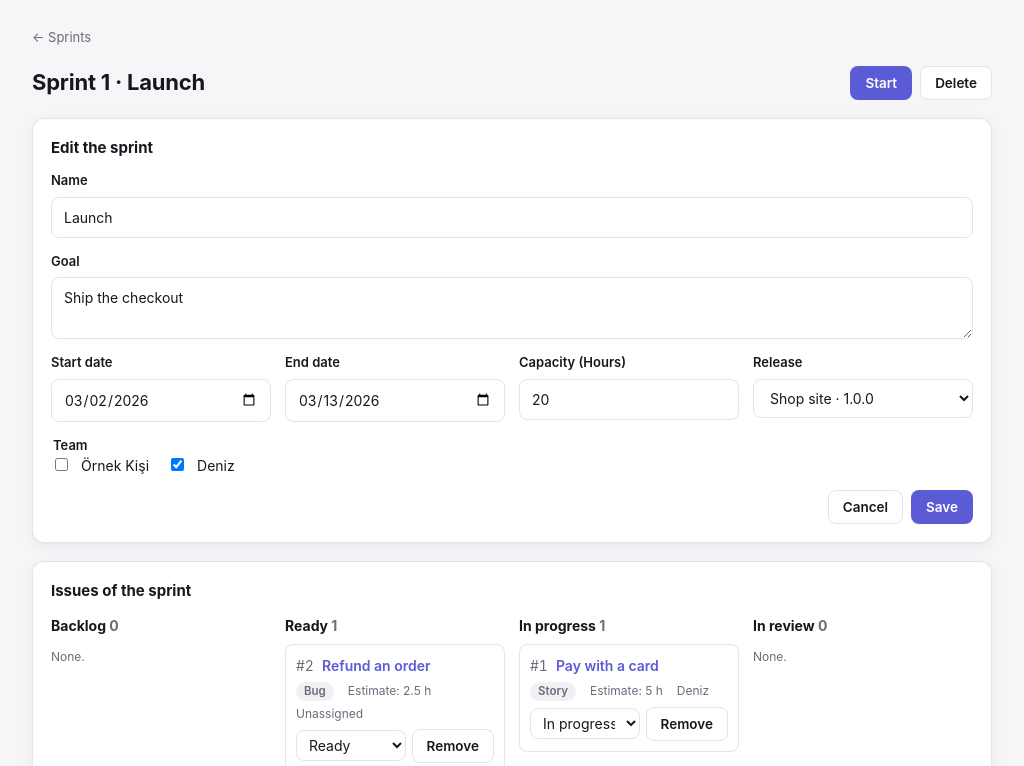
the sprint page: changing the sprint › cancels back to the facts
Click the button "Cancel".
click(865, 507)  # box [828,490,903,524]
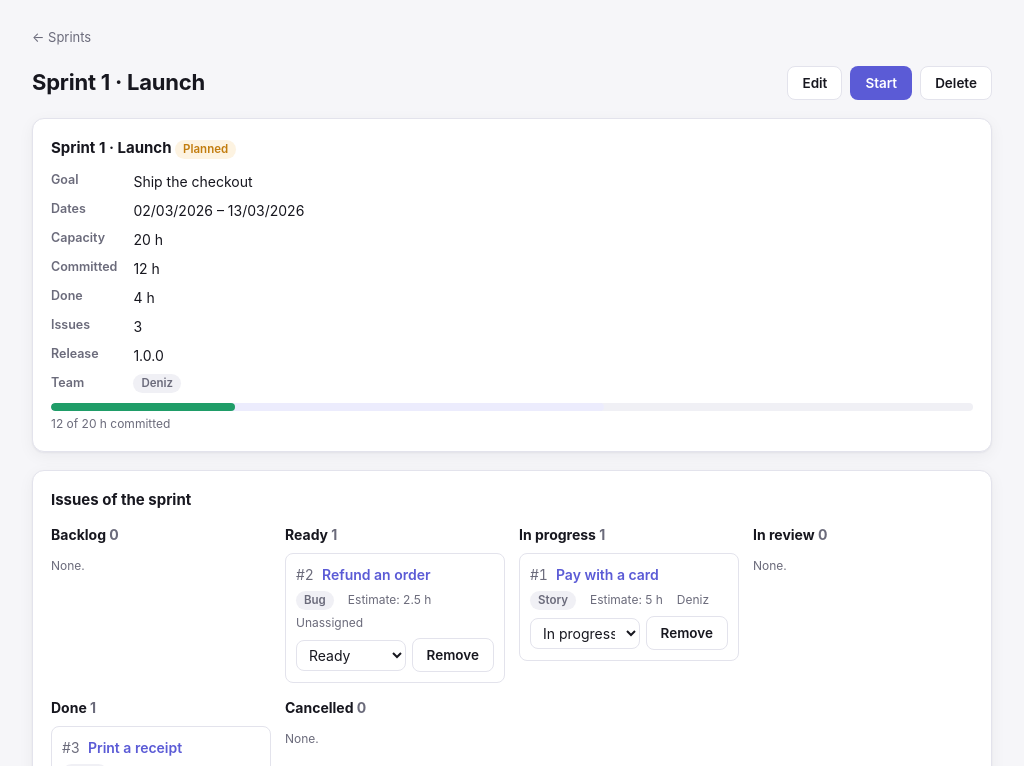
Expected: the button "Edit" is shown, [788,66,842,100]
Now the label labelled "Name" is gone
